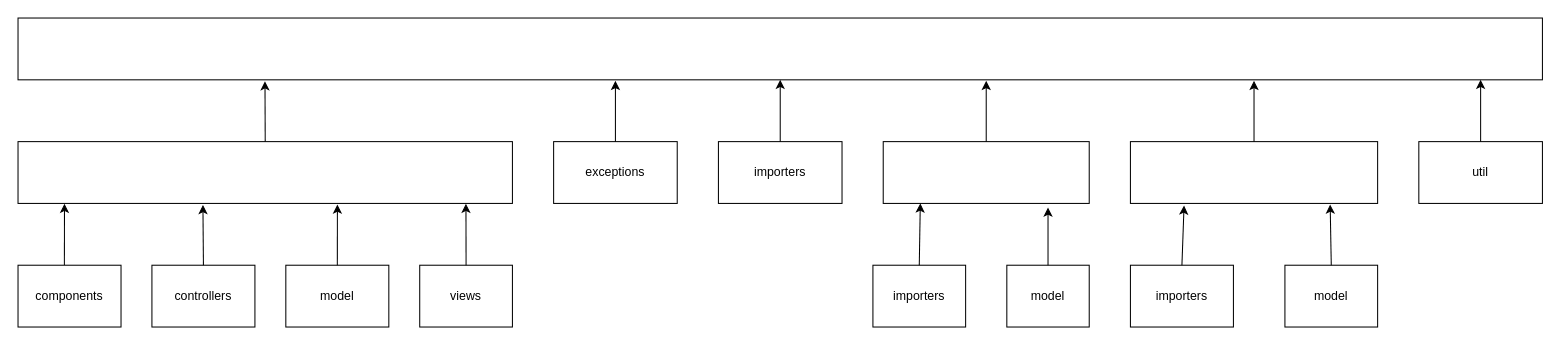
This 1560x345 diagram has some shape labels left out. The box of each missing label's shape, as (x1, y1, x2, y2) in pixels:
communications: (882, 141, 1089, 203)
gui: (17, 141, 512, 203)
nz.ac.vuw.engr300: (17, 17, 1542, 80)
weather: (1129, 141, 1378, 203)
